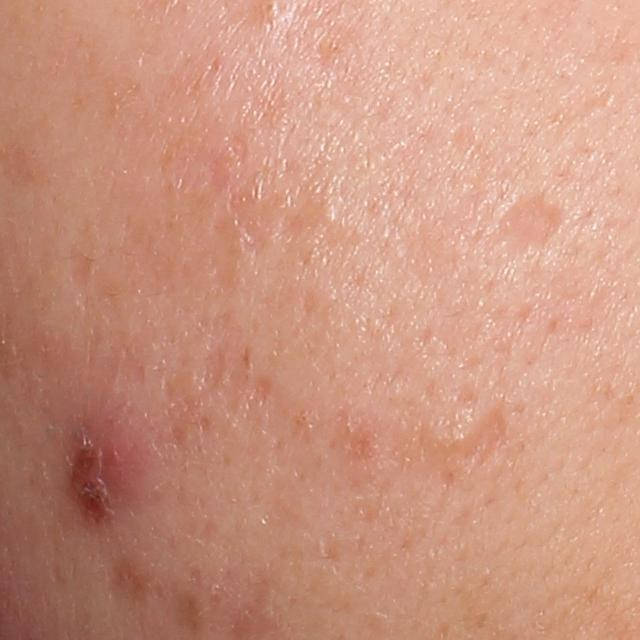atrophic_scar: (449, 398, 516, 485), (495, 185, 572, 254), (71, 221, 97, 301), (200, 345, 226, 392), (250, 373, 274, 403)
comedo: (323, 203, 339, 221)
papule: (64, 416, 157, 515)
